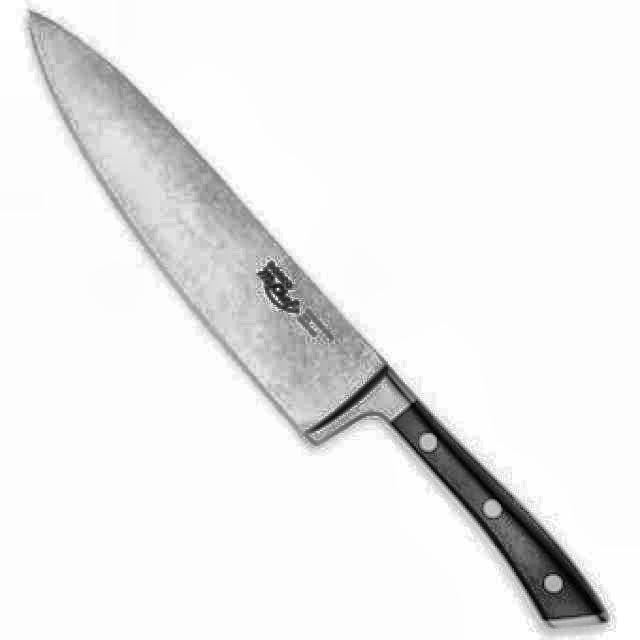knife: (24, 10, 609, 632)
